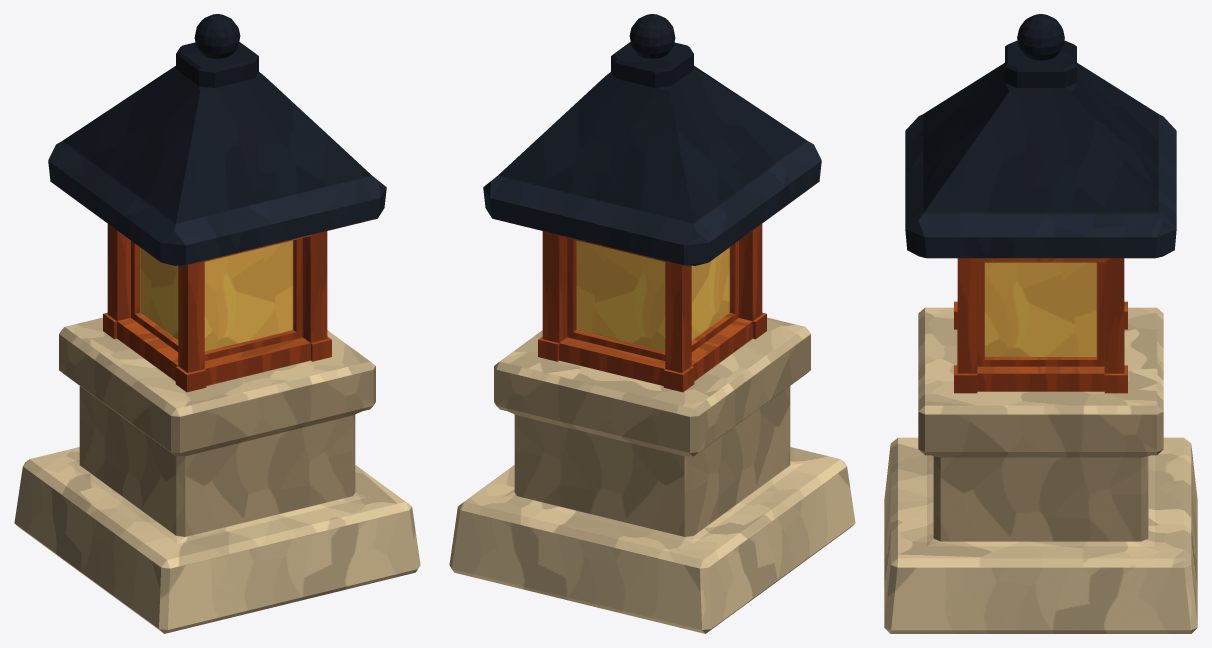
Rendered from Lantern.fbx.
The picture shows the model from 3 angles, left to right: view 1: azimuth 30°, elevation 25°; view 2: azimuth 150°, elevation 25°; view 3: azimuth 270°, elevation 25°; orthographic projection. The views are drawn at different scales.
Visible parts, largest first — view 1: Lantern_Geometry; view 2: Lantern_Geometry; view 3: Lantern_Geometry.
Boxes of the visible parts, x1,y1,x2,y2 form: Lantern_Geometry: [14, 14, 420, 633]; Lantern_Geometry: [449, 14, 855, 633]; Lantern_Geometry: [884, 14, 1197, 633].
Bounding box in the file's own units: 1.99 × 3.88 × 1.99.
